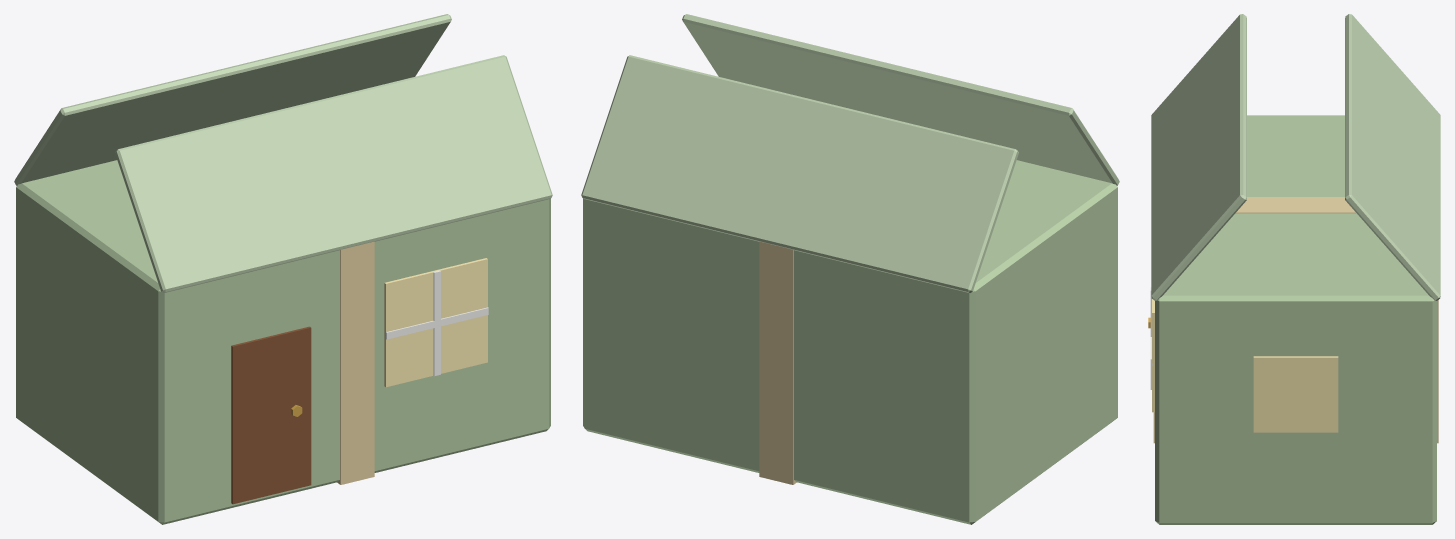
Rendered from rental_bunk.glb.
The picture shows the model from 3 angles, left to right: view 1: azimuth 30°, elevation 25°; view 2: azimuth 150°, elevation 25°; view 3: azimuth 270°, elevation 25°; orthographic projection. The views are drawn at different scales.
Visible parts, largest first — view 1: rental_bunk_Body; view 2: rental_bunk_Body; view 3: rental_bunk_Body.
Part boxes in pixels (x1,y1,x2,y2): rental_bunk_Body: [14, 14, 552, 524]; rental_bunk_Body: [581, 14, 1119, 524]; rental_bunk_Body: [1148, 14, 1440, 524].
Bounding box in the file's own units: 0.6 × 0.5 × 0.4.
